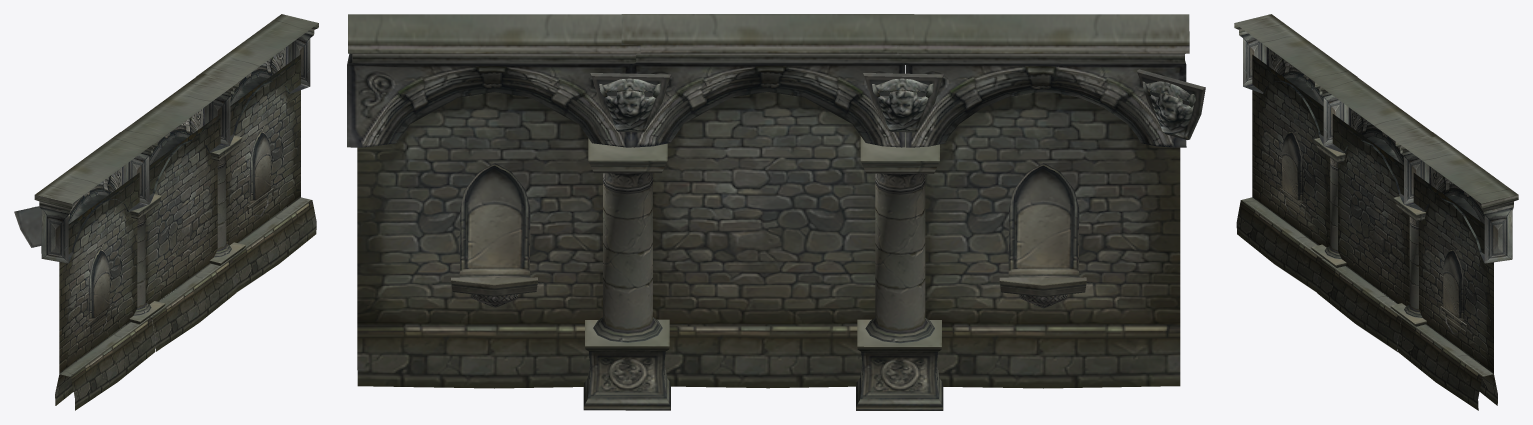
3 renders of one model, left to right at view 1: azimuth 30°, elevation 25°; view 2: azimuth 150°, elevation 25°; view 3: azimuth 270°, elevation 25°, orthographic. The views are drawn at different scales.
Visible parts, largest first — view 1: DN_1_4_dt01b_a, Object031; view 2: DN_1_4_dt01b_a, Object031; view 3: DN_1_4_dt01b_a, Object031.
Part boxes in pixels (left/top/right/bottom): DN_1_4_dt01b_a: left=14, top=14, right=318, bottom=373; Object031: left=55, top=197, right=316, bottom=410; DN_1_4_dt01b_a: left=347, top=14, right=1205, bottom=343; Object031: left=357, top=319, right=1180, bottom=410; DN_1_4_dt01b_a: left=1234, top=14, right=1518, bottom=373; Object031: left=1236, top=197, right=1497, bottom=410.
Bounding box in the file's own units: 1316 × 651 × 802.
